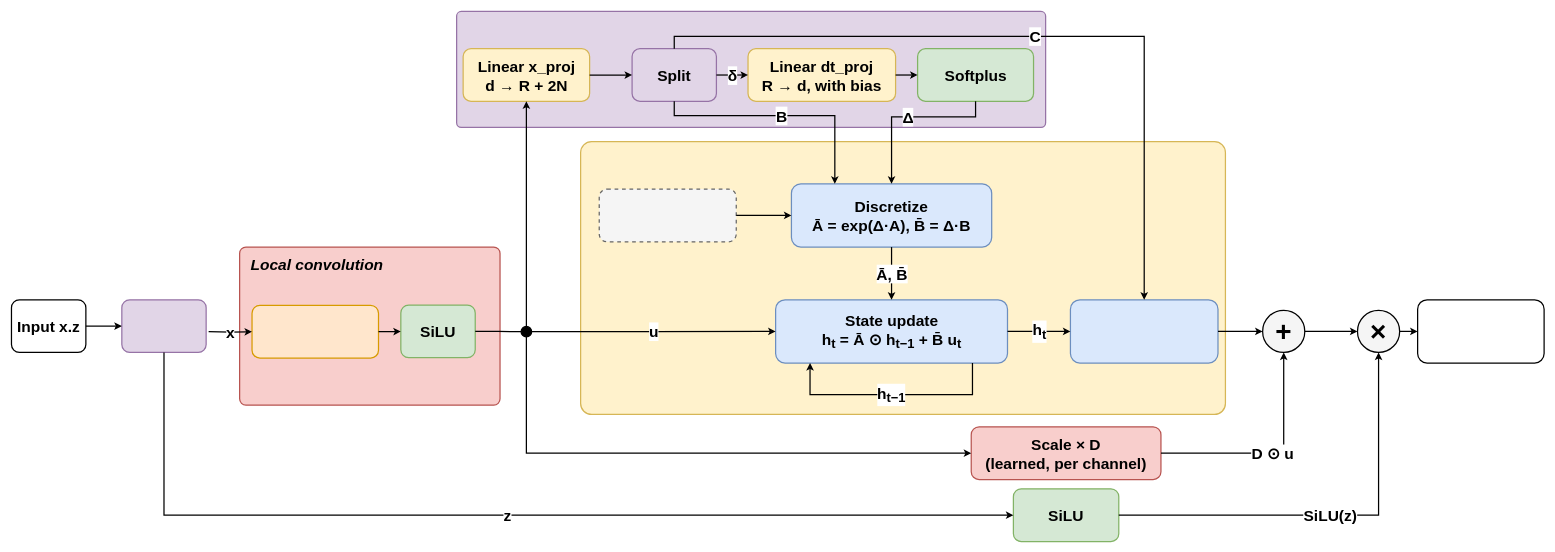
This 1555x552 diagram has some shape labels left out. Here are the shapes that lost their labels. From the top down, the box of each, then its label:
(456, 11, 1046, 128): Selection (Δ, B, C)
(598, 188, 737, 242): A (learned) = −exp(A_log)
(580, 141, 1226, 415): Selective scan, over t = 1 … L
(121, 299, 206, 353): Split channels
(251, 304, 379, 358): Causal depthwise Conv1d, k = 4
(1070, 299, 1218, 363): Readout y t = C t · h t
(1417, 299, 1544, 363): Output y d channels
